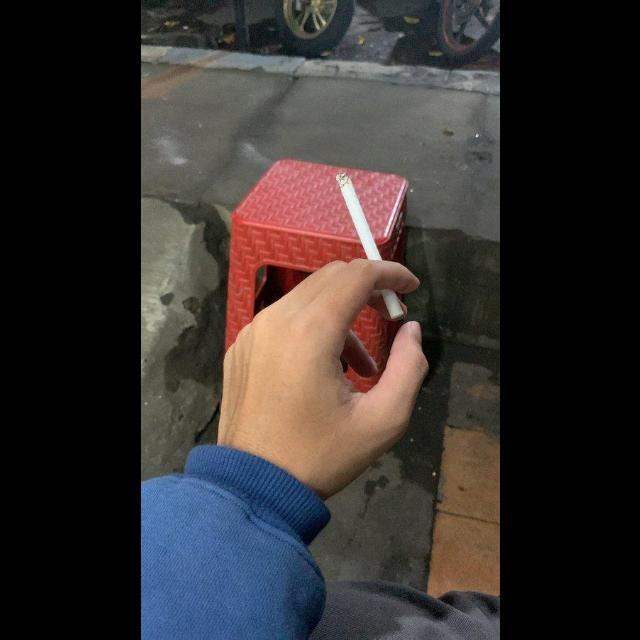rokok: (334, 172, 406, 318)
